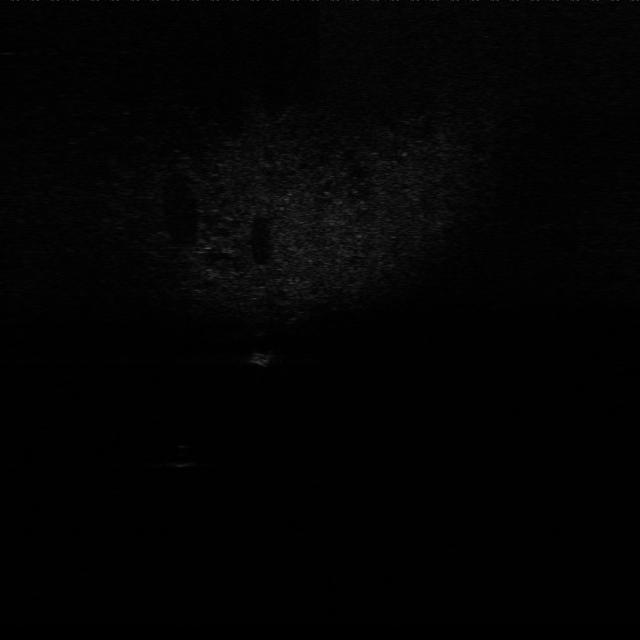ball: (164, 440, 200, 468)
cube: (247, 348, 278, 368)
